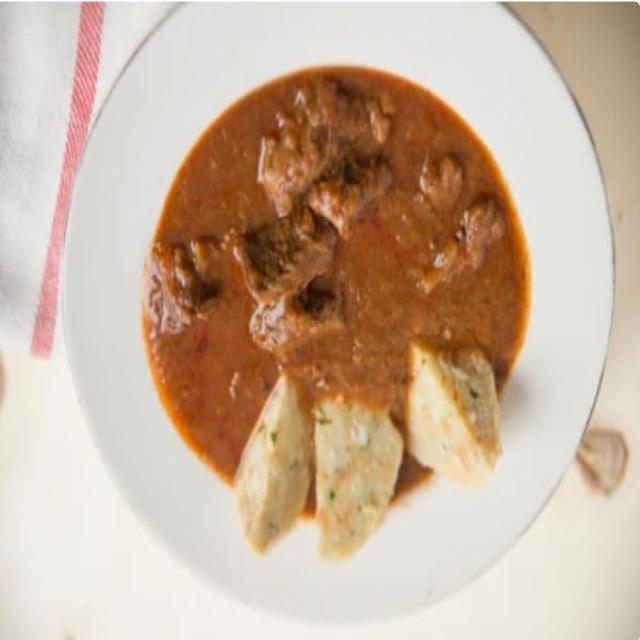kamouniya: (119, 90, 559, 557)
